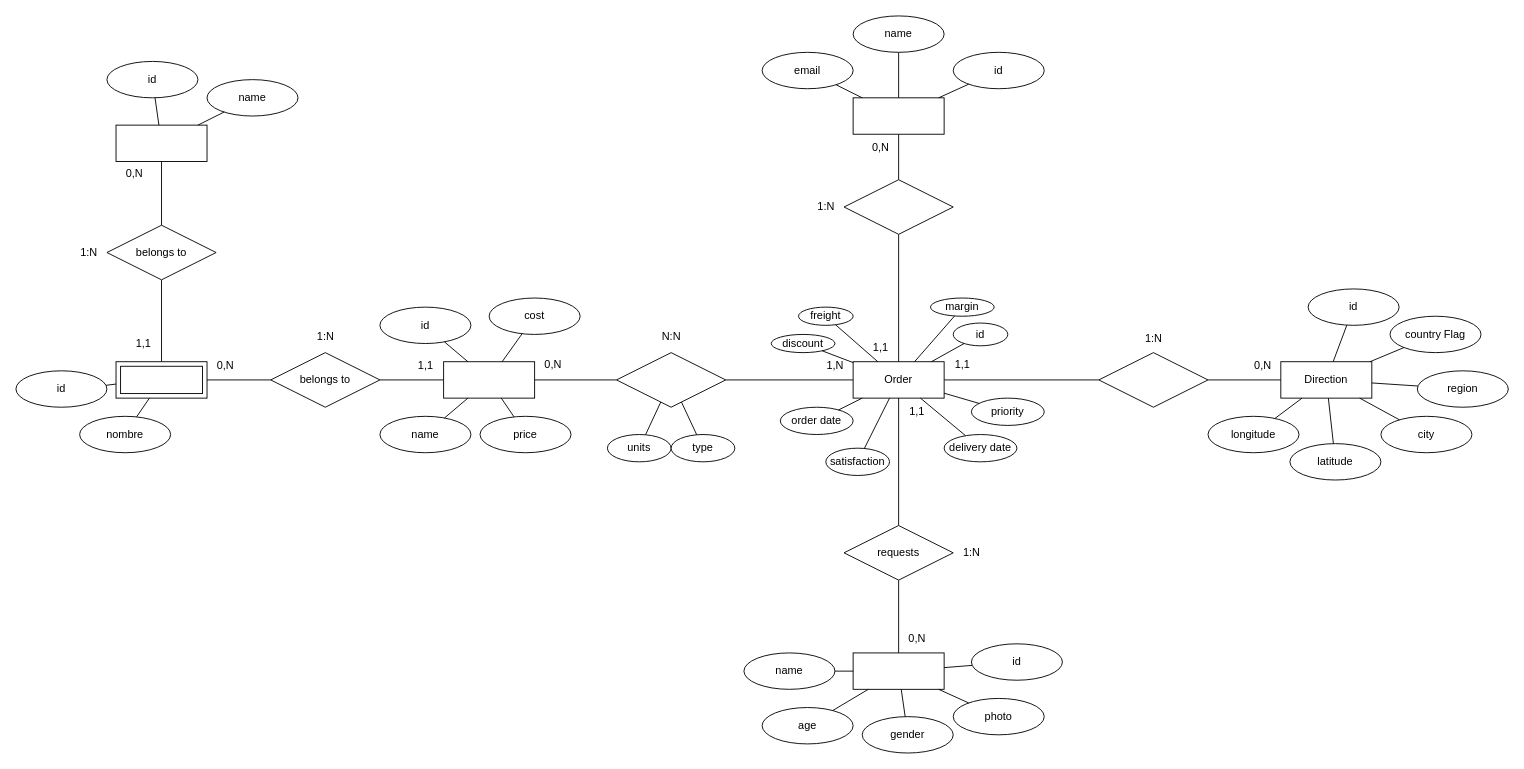
The diagram is 1524 pixels wide and 769 high, and some of its shapes have lost their labels. Each missing label, with the centre of its shape:
"category" belongs at point (161, 143).
"Client" belongs at point (898, 670).
"contains" belongs at point (671, 379).
"Employee" belongs at point (898, 115).
"Process" belongs at point (898, 206).
"product" belongs at point (489, 379).
"sended to" belongs at point (1153, 379).
"subcategory" belongs at point (161, 379).
